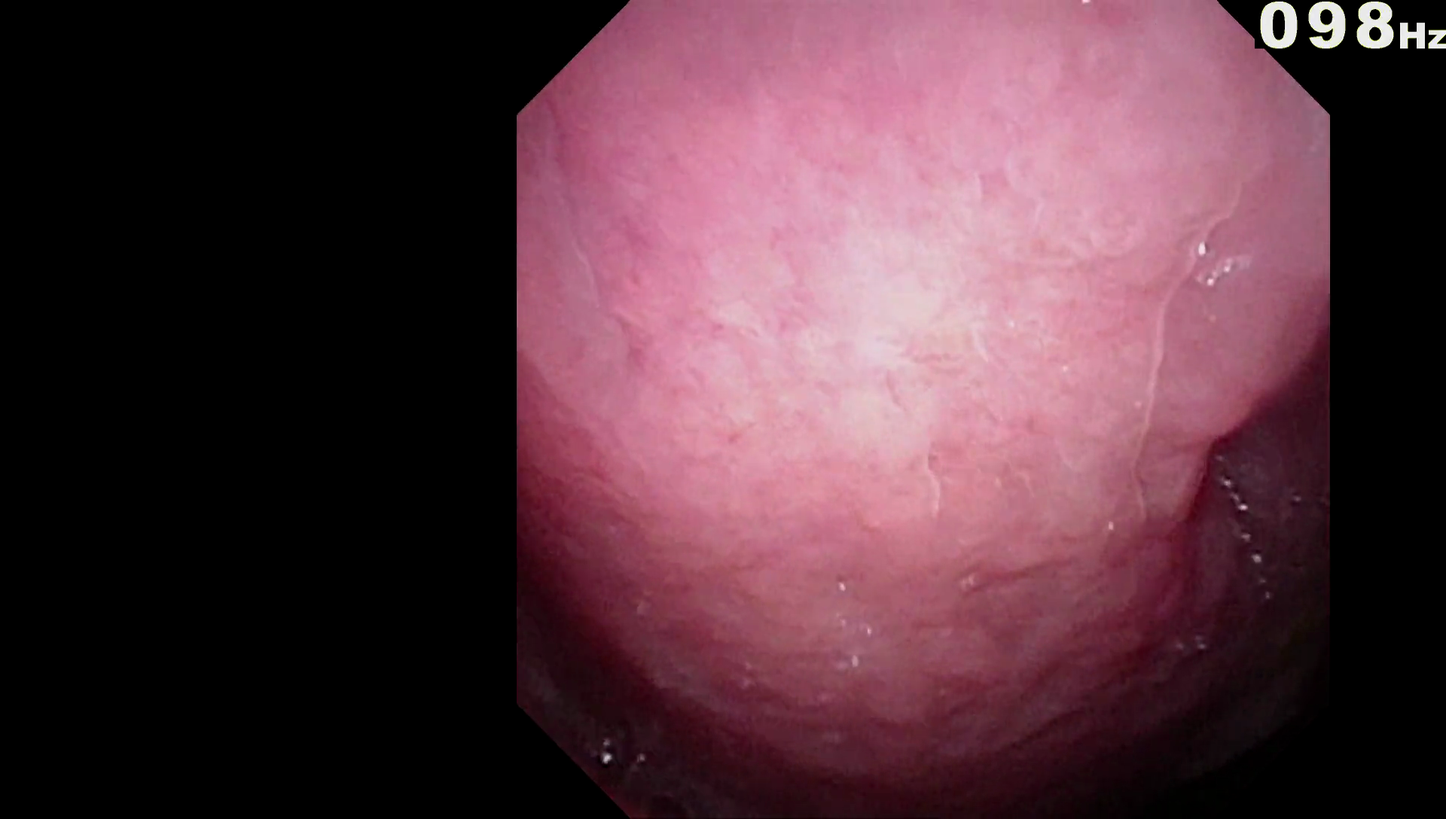close_wall: (575, 50, 1233, 604)
next: (1019, 602, 1303, 819)
